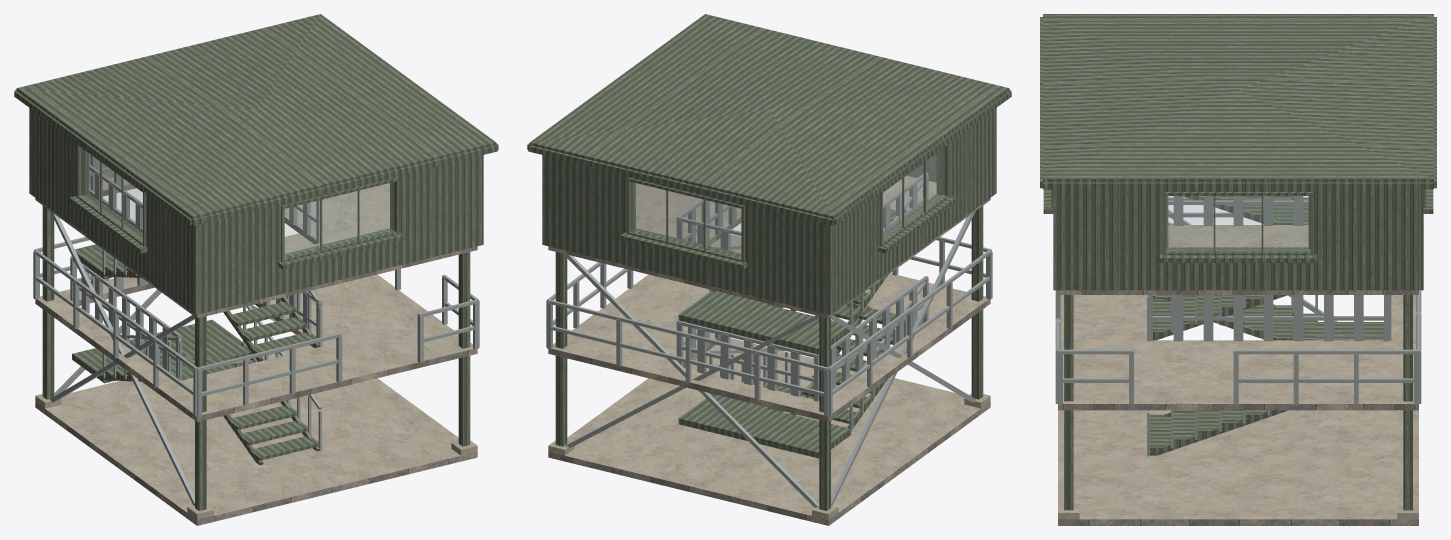
The model's file is cyclone-guard-tower.gltf.
3 renders of one model, left to right at view 1: azimuth 30°, elevation 25°; view 2: azimuth 150°, elevation 25°; view 3: azimuth 270°, elevation 25°, orthographic. The views are drawn at different scales.
Visible parts, largest first — view 1: roof-L3-metal, exterior-L2-metal, floor-L0-plaster, floor-L1-plaster, guards-L1-iron, glazing-L2-glass, stairs-L0-metal, structure-L0-metal, facade-trim-L2-metal, stairs-L1-metal, roof-trim-L3-metal, floor-L2-plaster (+8 smaller); view 2: roof-L3-metal, exterior-L2-metal, floor-L0-plaster, guards-L1-iron, floor-L1-plaster, glazing-L2-glass, stairs-L0-metal, structure-L0-metal, structure-L0-iron, stairs-L1-metal, facade-trim-L2-metal, roof-trim-L3-metal (+7 smaller); view 3: roof-L3-metal, floor-L0-plaster, exterior-L2-metal, floor-L1-plaster, guards-L1-iron, glazing-L2-glass, stairs-L0-metal, roof-trim-L3-metal, structure-L0-metal, facade-trim-L2-metal, stairs-L1-metal, floor-L2-plaster (+6 smaller).
Boxes of the visible parts, <box> form: roof-L3-metal: <box>16,14,496,219</box>; exterior-L2-metal: <box>29,108,483,314</box>; floor-L0-plaster: <box>45,345,460,515</box>; floor-L1-plaster: <box>38,233,473,414</box>; guards-L1-iron: <box>33,226,479,416</box>; glazing-L2-glass: <box>84,150,393,256</box>; stairs-L0-metal: <box>72,319,319,464</box>; structure-L0-metal: <box>42,205,470,510</box>; facade-trim-L2-metal: <box>69,143,405,269</box>; stairs-L1-metal: <box>75,244,319,361</box>; roof-trim-L3-metal: <box>14,89,498,225</box>; floor-L2-plaster: <box>89,177,389,253</box>; roof-L3-metal: <box>529,14,1009,219</box>; exterior-L2-metal: <box>542,108,996,314</box>; floor-L0-plaster: <box>565,338,980,515</box>; guards-L1-iron: <box>546,237,992,416</box>; floor-L1-plaster: <box>552,234,987,414</box>; glazing-L2-glass: <box>632,150,941,256</box>; stairs-L0-metal: <box>678,305,924,458</box>; structure-L0-metal: <box>555,205,983,510</box>; structure-L0-iron: <box>564,211,976,507</box>; stairs-L1-metal: <box>678,209,908,354</box>; facade-trim-L2-metal: <box>620,143,956,269</box>; roof-trim-L3-metal: <box>527,89,1011,225</box>; roof-L3-metal: <box>1043,14,1433,182</box>; floor-L0-plaster: <box>1058,410,1418,519</box>; exterior-L2-metal: <box>1053,189,1423,290</box>; floor-L1-plaster: <box>1060,295,1416,403</box>; guards-L1-iron: <box>1055,197,1421,404</box>; glazing-L2-glass: <box>1166,196,1310,249</box>; stairs-L0-metal: <box>1149,295,1383,455</box>; roof-trim-L3-metal: <box>1040,17,1436,189</box>; structure-L0-metal: <box>1064,295,1412,510</box>; facade-trim-L2-metal: <box>1043,189,1433,262</box>; stairs-L1-metal: <box>1153,196,1308,340</box>; floor-L2-plaster: <box>1168,225,1308,247</box>.
Bounding box in the file's own units: 6.6 × 6.6 × 6.6.
5 materials, 3 textured.
